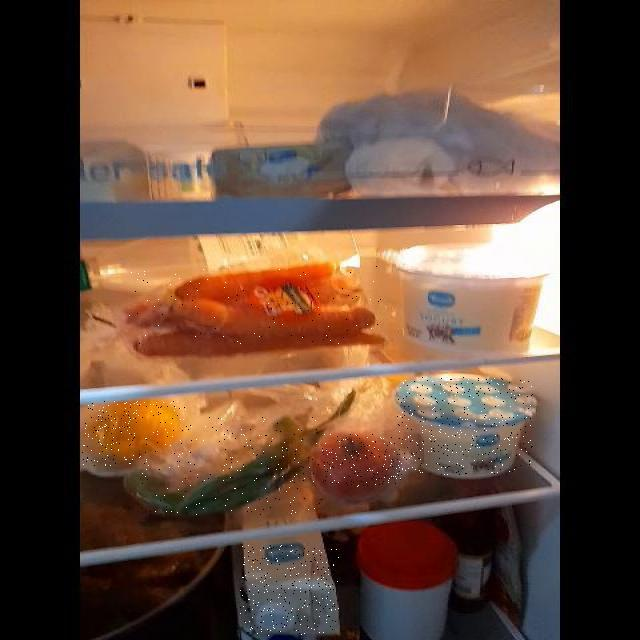carrot: (129, 266, 383, 344)
green chilies: (137, 416, 322, 515)
lemon: (82, 401, 186, 467)
milk: (240, 545, 339, 636)
tomato: (316, 434, 402, 487)
yoghurt: (400, 246, 539, 351), (397, 377, 533, 475)
